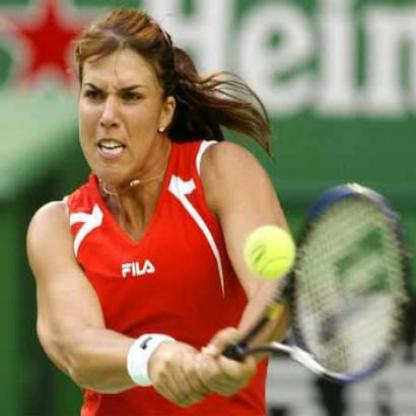face: (75, 13, 165, 186)
